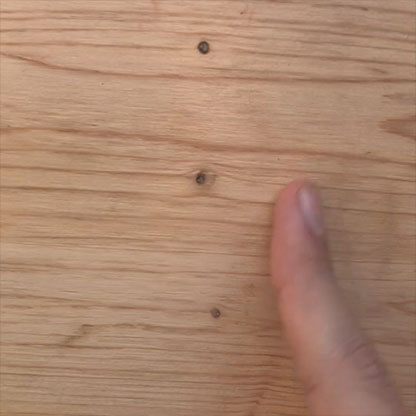fingertip: (259, 167, 340, 250)
